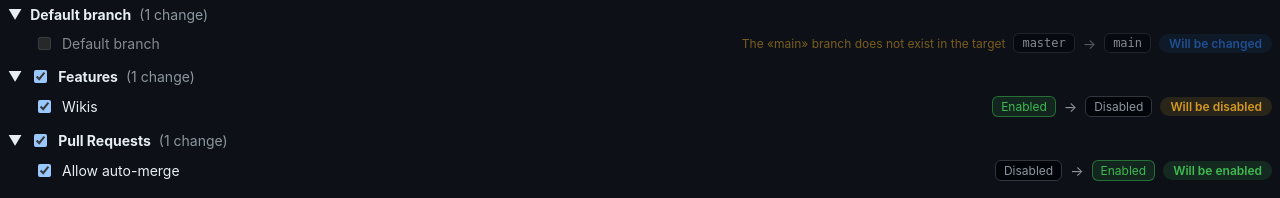
Scenario: DiffTree › the category checkbox selects/deselects all its settings
Click the checkbox named "Category Features" at (41, 76), box [34, 70, 47, 83]
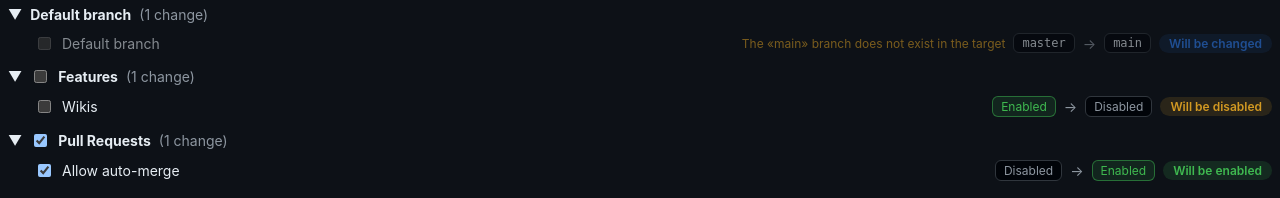
Result: the checkbox named "Wikis" is not checked at [38, 100, 51, 113]
Click the checkbox named "Category Features" at (41, 76), box [34, 70, 47, 83]
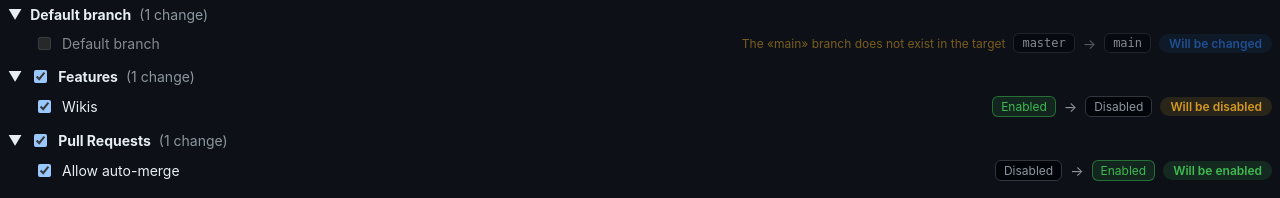
Result: the checkbox named "Wikis" is checked at [38, 100, 51, 113]
